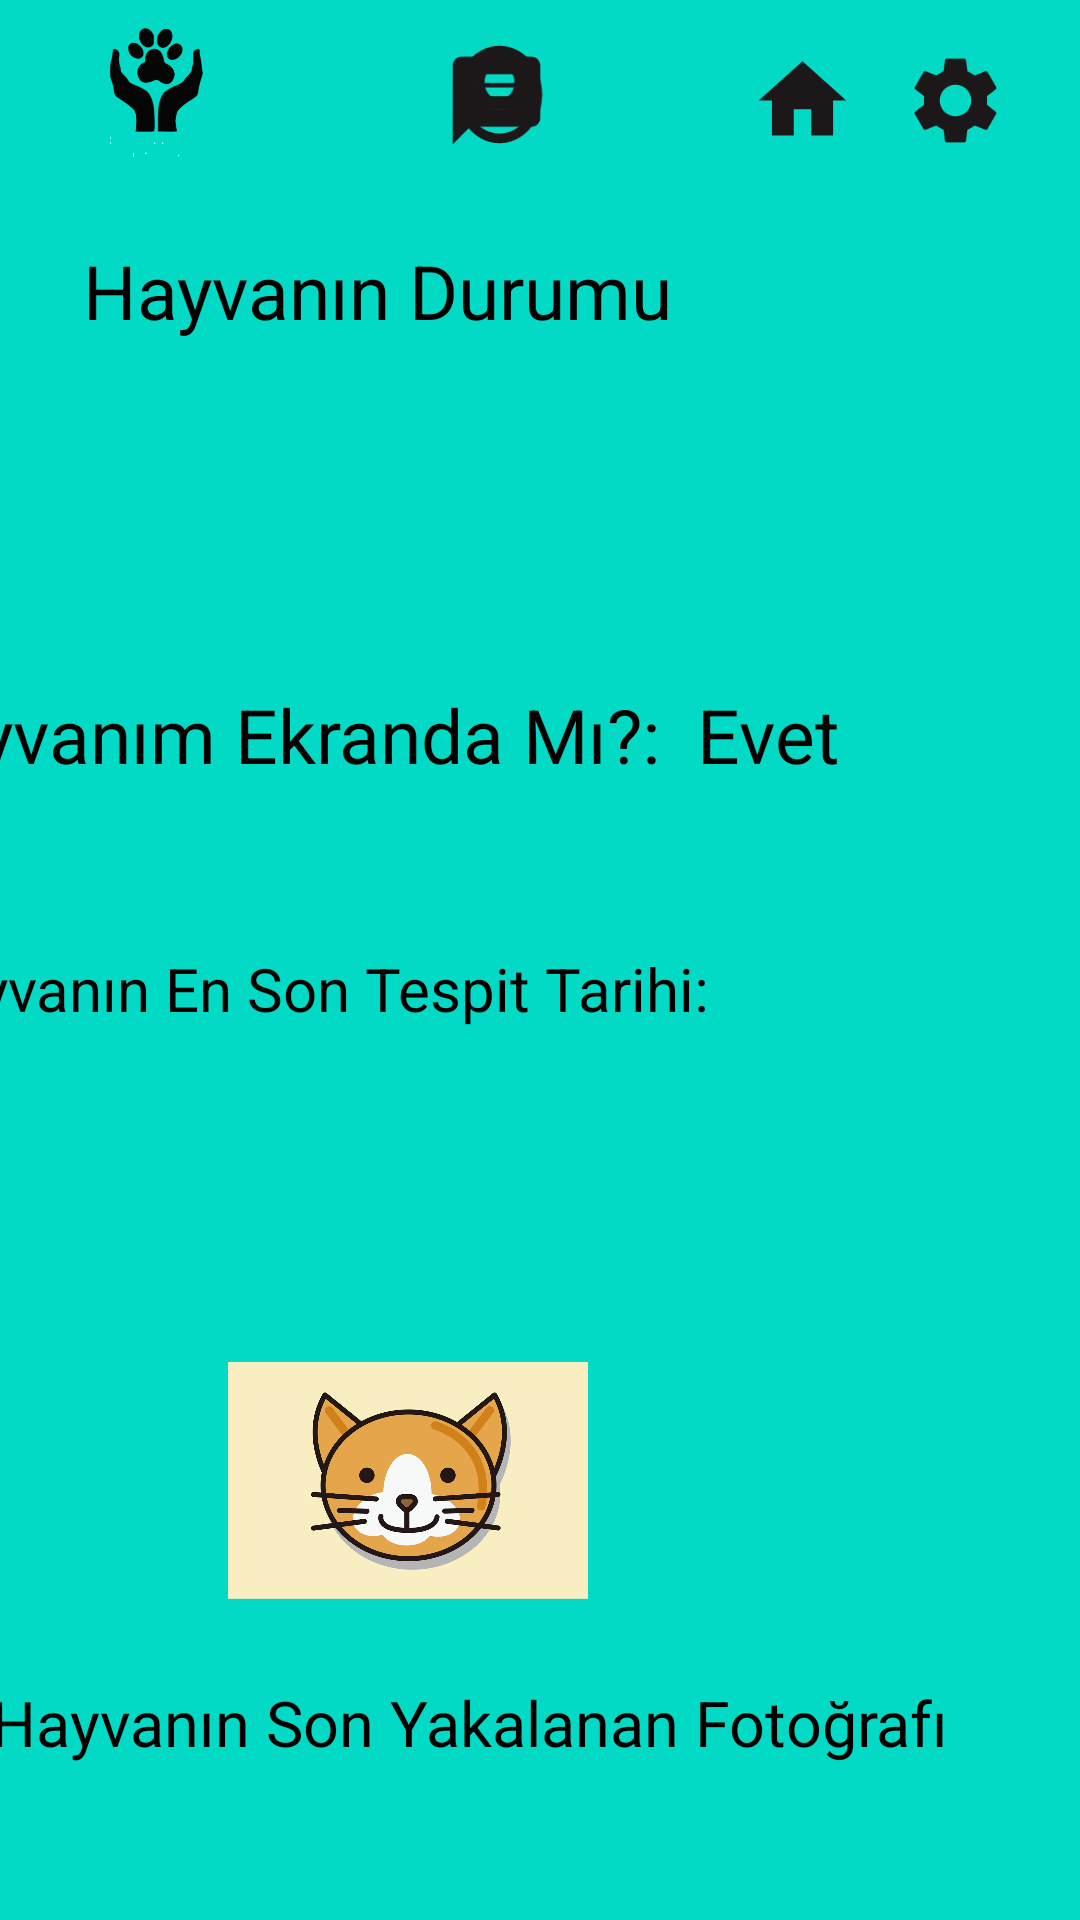

Locate icon controls on the screen. Image size 1080px×1920px, boxes as (x1, y1, x2, y2).
home: (759, 61, 846, 136)
settings: (914, 58, 997, 143)
